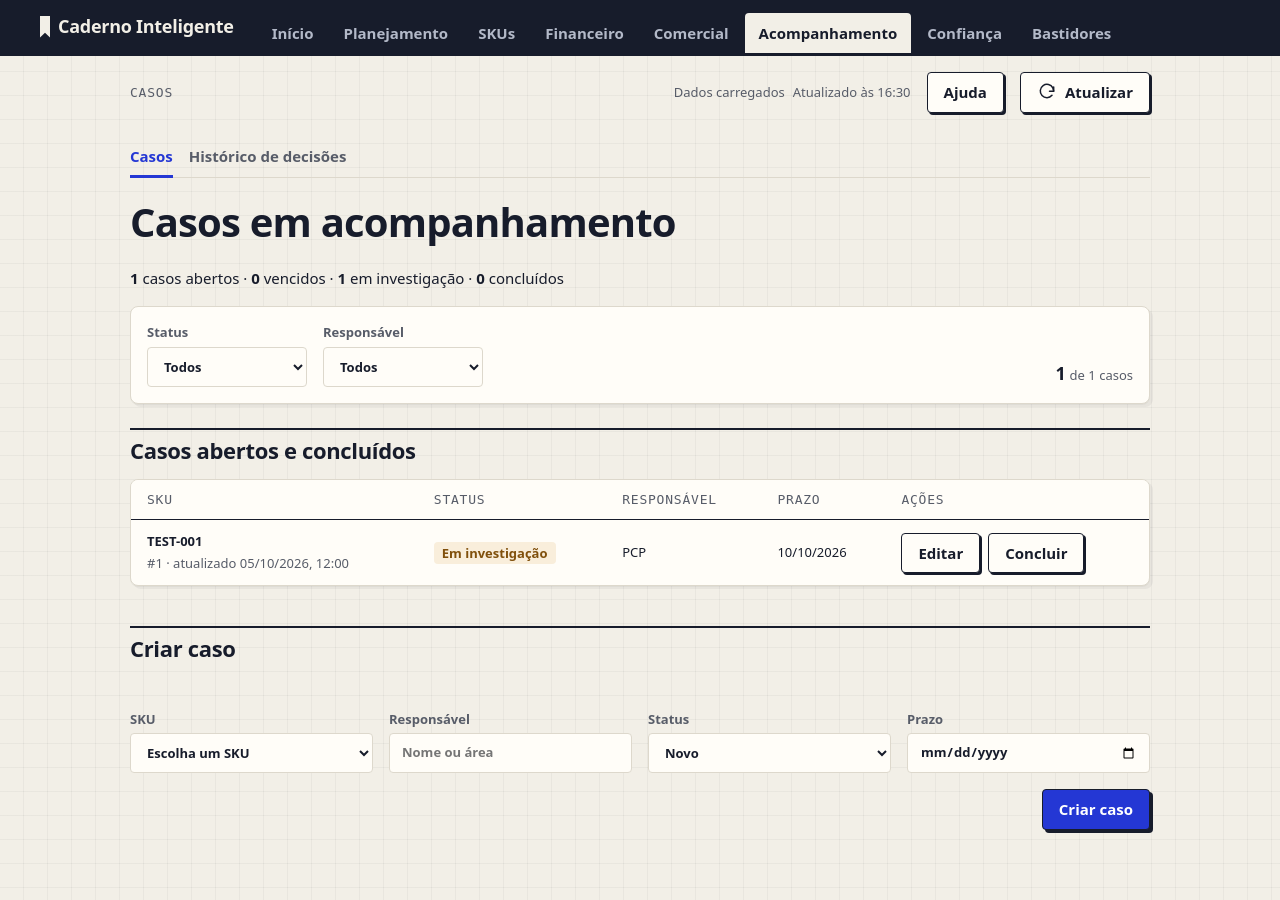
formulários por teclado › criação de caso: campos rotulados e envio
The image size is (1280, 900).
Select "TEST-003" in the dropdown labelled "SKU" at (252, 753), box 130,733 -> 373,773
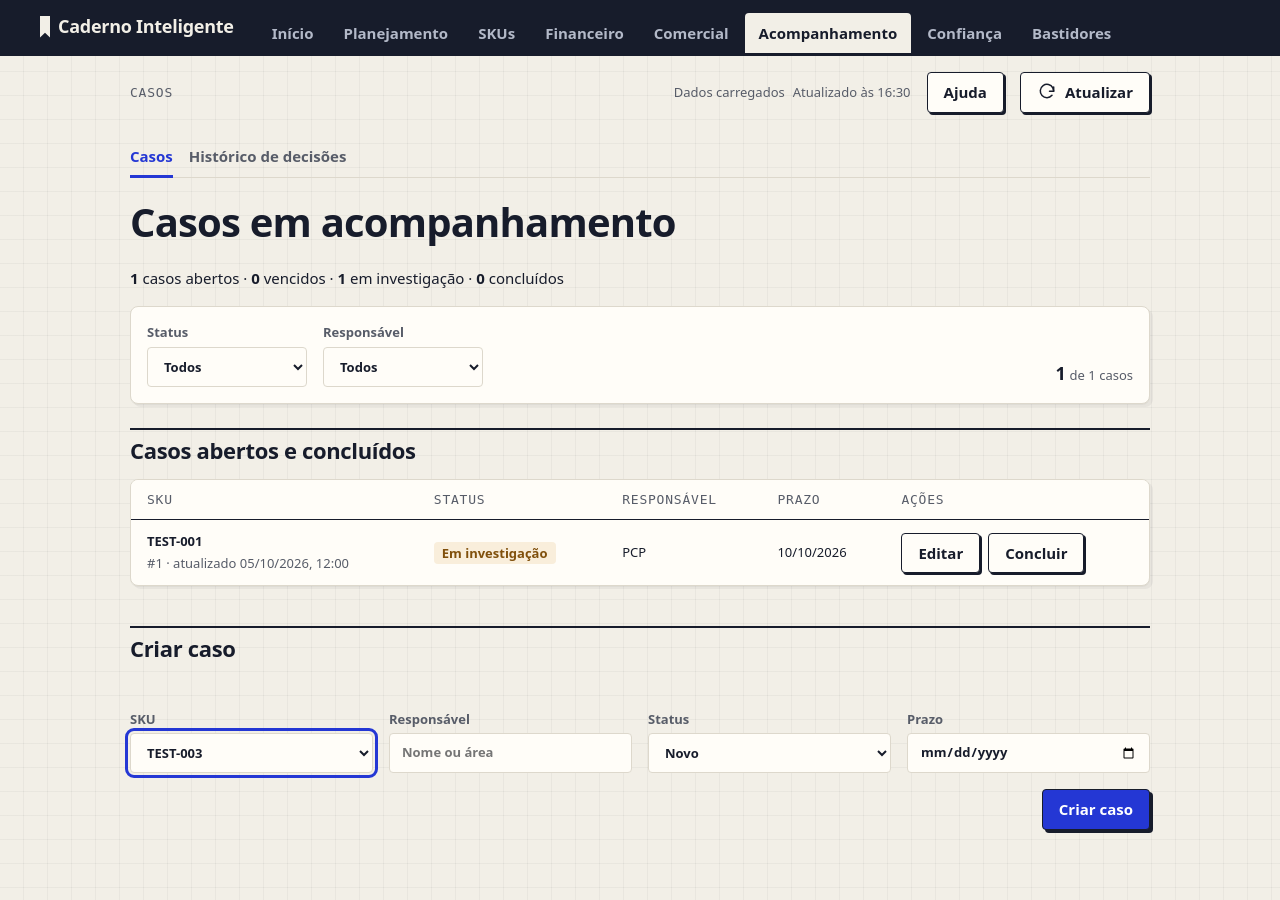
Type "PCP" into the field labelled "Responsável" at (510, 753), box 389,733 -> 632,773
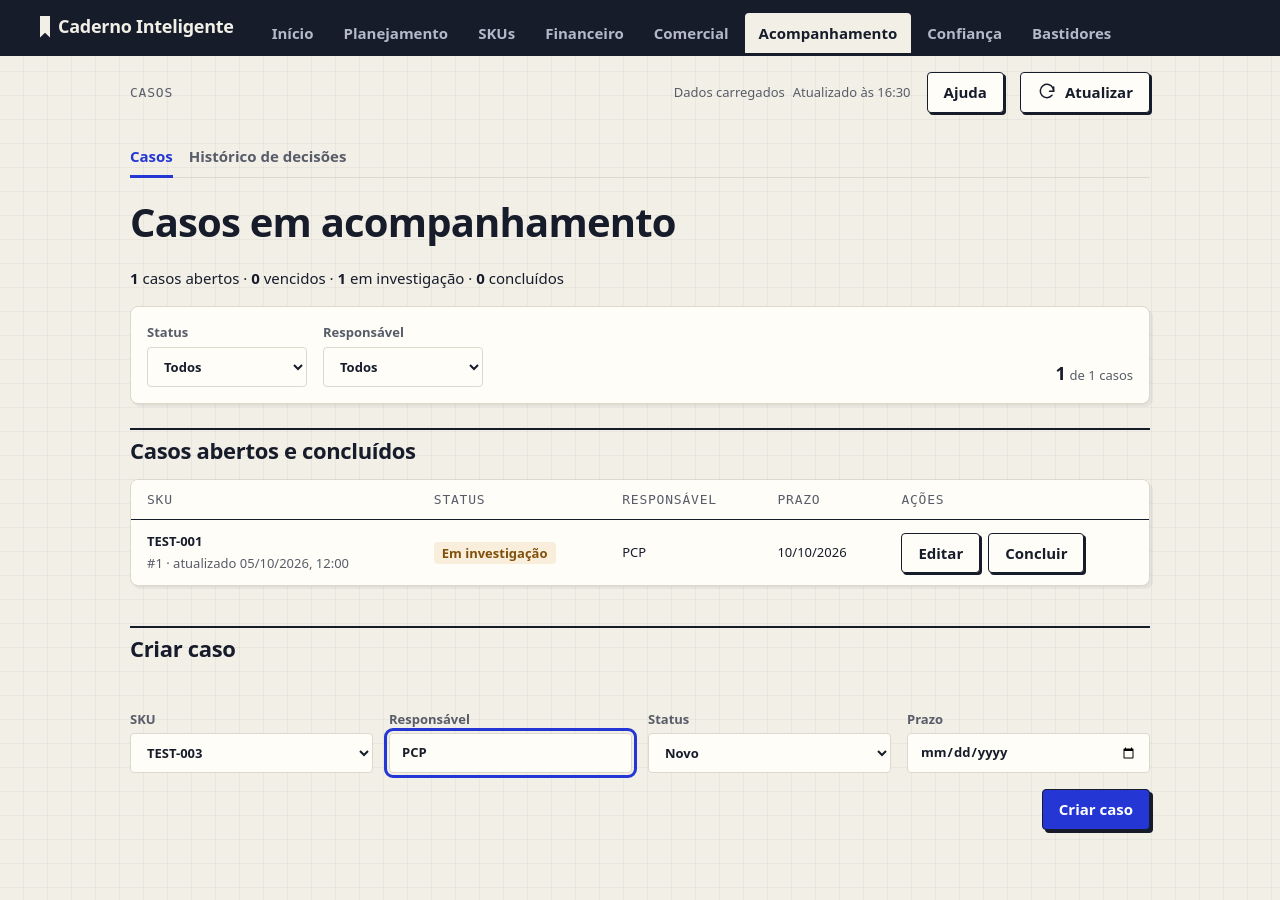
Select "Em investigação" in the 2nd dropdown labelled "Status" at (770, 753), box 648,733 -> 891,773
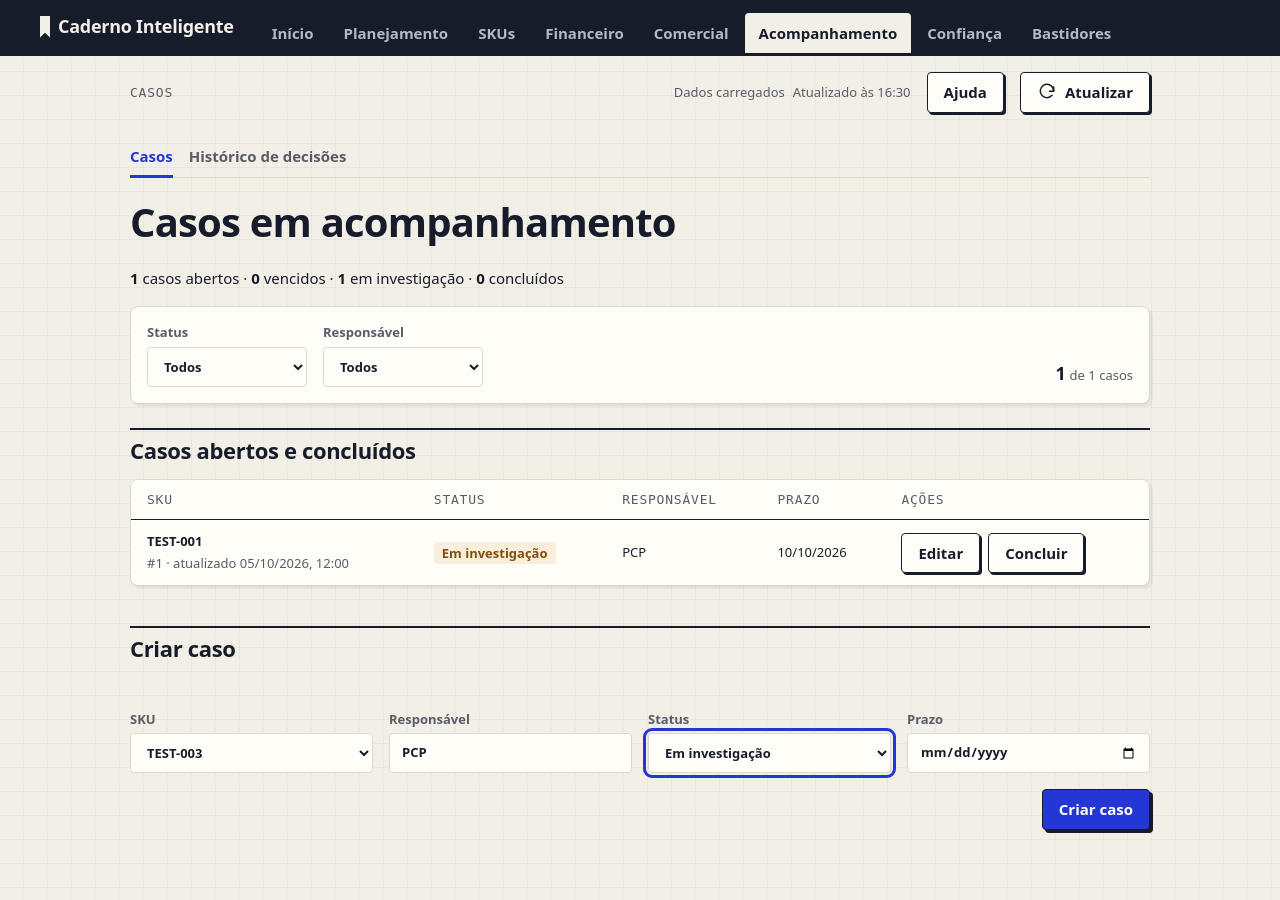
Click the button "Criar caso" at (1096, 809), box 1042,789 -> 1150,830
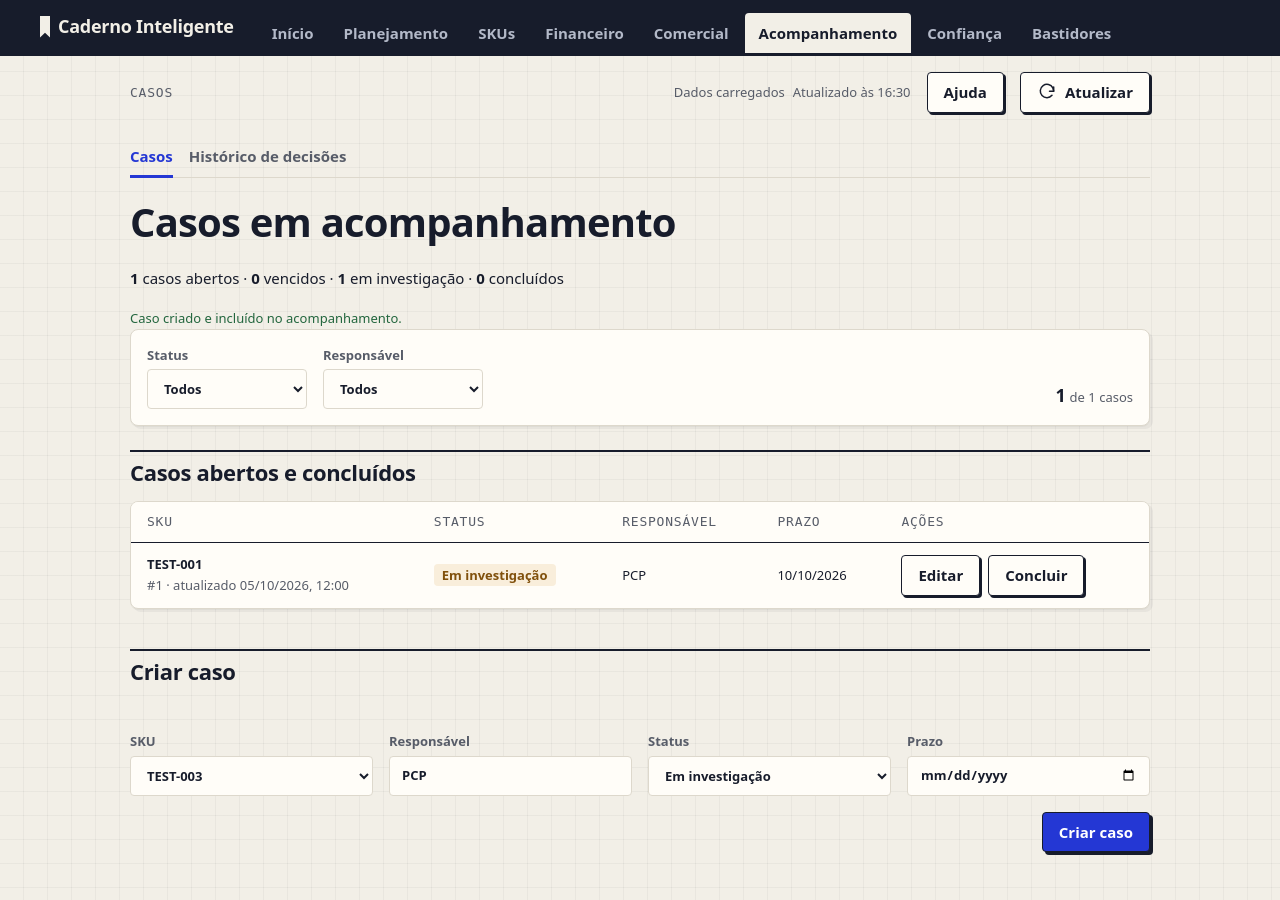
Check: the text "Caso criado e incluído no acompanhamento." is shown, box 130,309 -> 402,327
